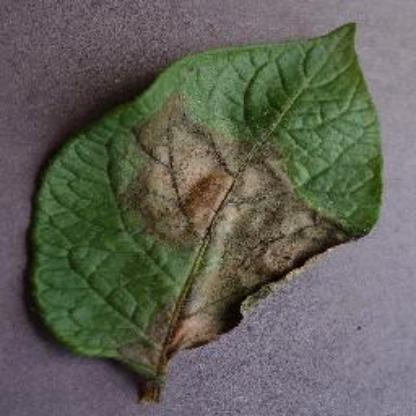Late-Blight: (14, 17, 392, 404)
